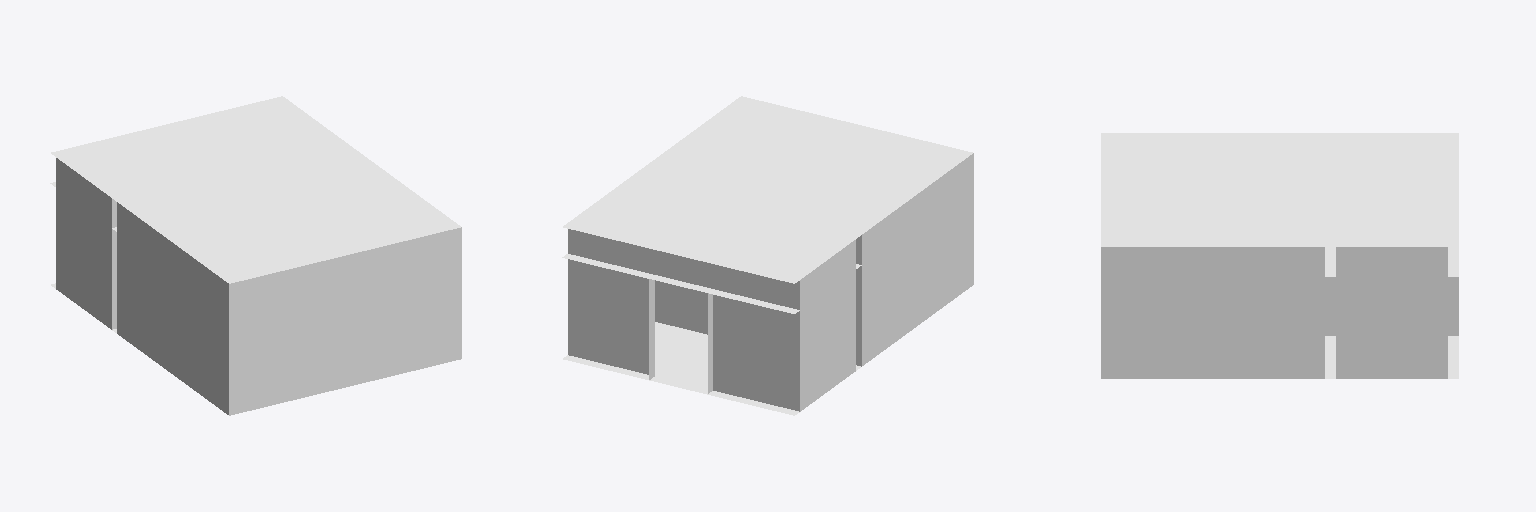
Rendered from LC_cont1_178.obj.
The picture shows the model from 3 angles: view 1: azimuth 30°, elevation 25°; view 2: azimuth 150°, elevation 25°; view 3: azimuth 270°, elevation 25°; orthographic projection.
Parts seen in each view (by area): view 1: room178; view 2: room178; view 3: room178.
Boxes of the visible parts, x1=… form: room178: x1=50, y1=96, x2=461, y2=415; room178: x1=562, y1=96, x2=973, y2=415; room178: x1=1101, y1=133, x2=1458, y2=378.
Bounding box in the file's own units: 7.68 × 4.16 × 10.24.